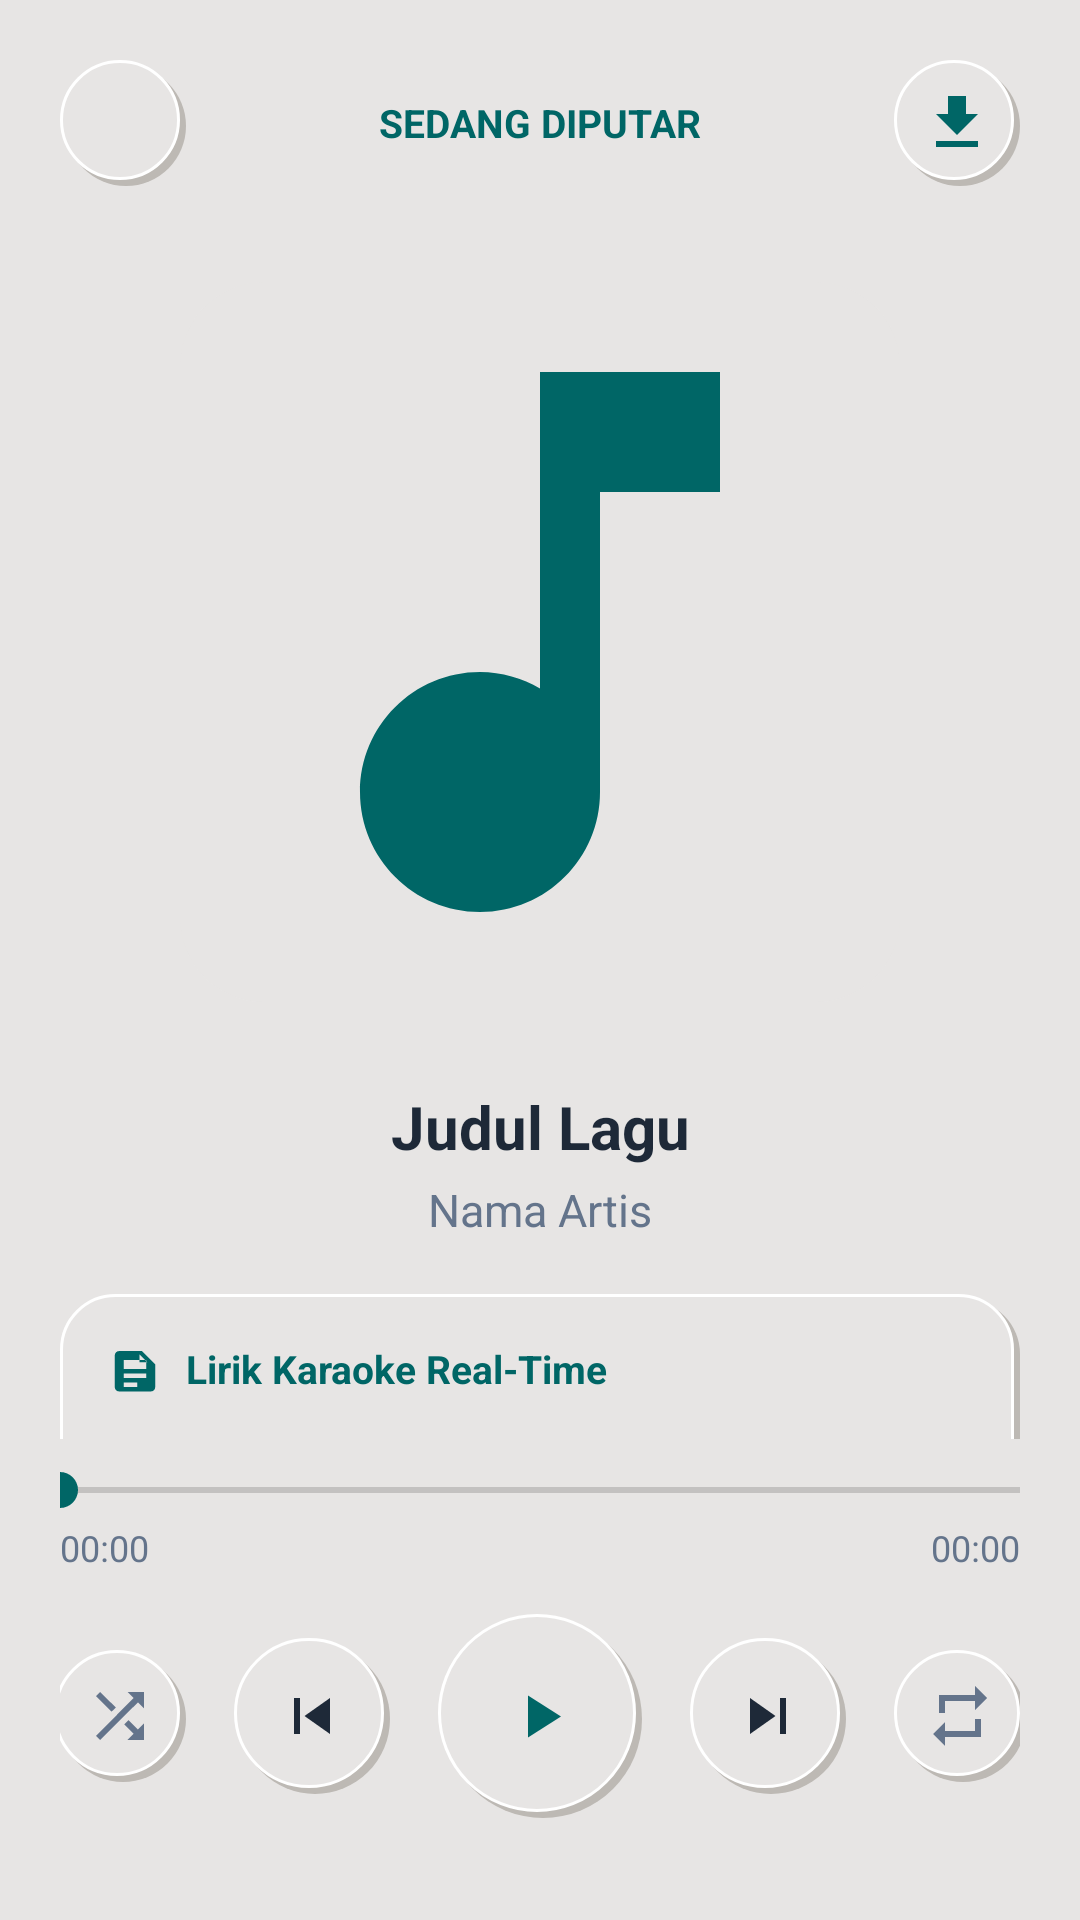

Icon bounding boxes for this 1080px×1920px phone screenshot, format (x1, y1, x2, y2):
Acak: (60, 1650, 186, 1782)
Berikutnya: (690, 1638, 846, 1794)
Putar atau Jeda: (438, 1614, 642, 1818)
Sebelumnya: (234, 1638, 390, 1794)
Ulangi: (894, 1650, 1020, 1782)
Unduh Lagu: (894, 60, 1020, 186)
